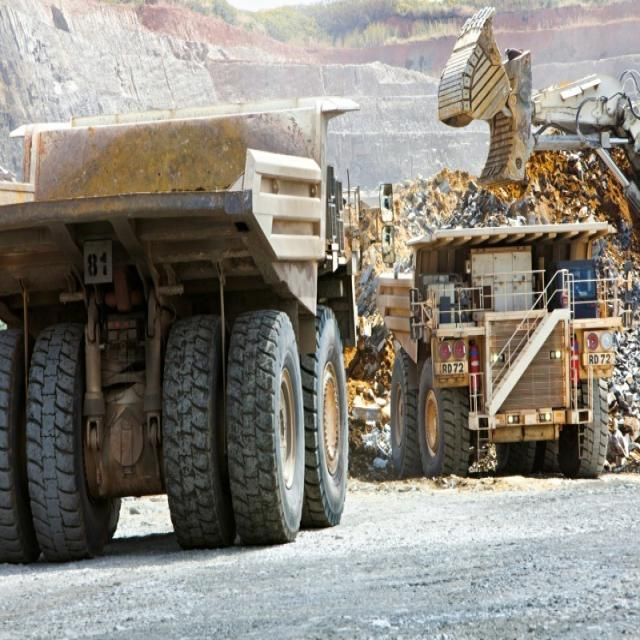dump_truck: (7, 86, 350, 546), (374, 199, 620, 484)
